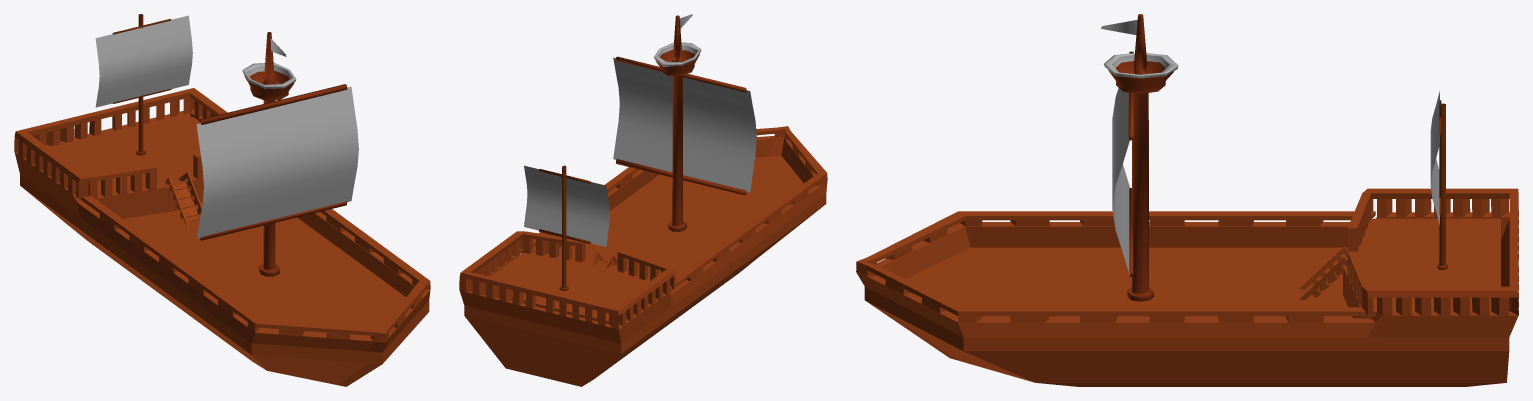
The model's file is kapal.fbx.
3 renders of one model, left to right at view 1: azimuth 30°, elevation 25°; view 2: azimuth 150°, elevation 25°; view 3: azimuth 270°, elevation 25°, orthographic. The views are drawn at different scales.
Parts seen in each view (by area): view 1: Cube, Cube.001, Cube.002; view 2: Cube, Cube.001, Cube.002; view 3: Cube, Cube.001, Cube.002.
Boxes of the visible parts, x1=… form: Cube: x1=14, y1=88, x2=430, y2=386; Cube.001: x1=95, y1=15, x2=358, y2=276; Cube.002: x1=112, y1=14, x2=171, y2=155; Cube: x1=459, y1=126, x2=827, y2=386; Cube.001: x1=524, y1=14, x2=756, y2=246; Cube.002: x1=539, y1=165, x2=590, y2=290; Cube: x1=856, y1=188, x2=1518, y2=386; Cube.001: x1=1101, y1=14, x2=1439, y2=301; Cube.002: x1=1437, y1=100, x2=1447, y2=269.
Bounding box in the file's own units: 465 × 736 × 1256.
